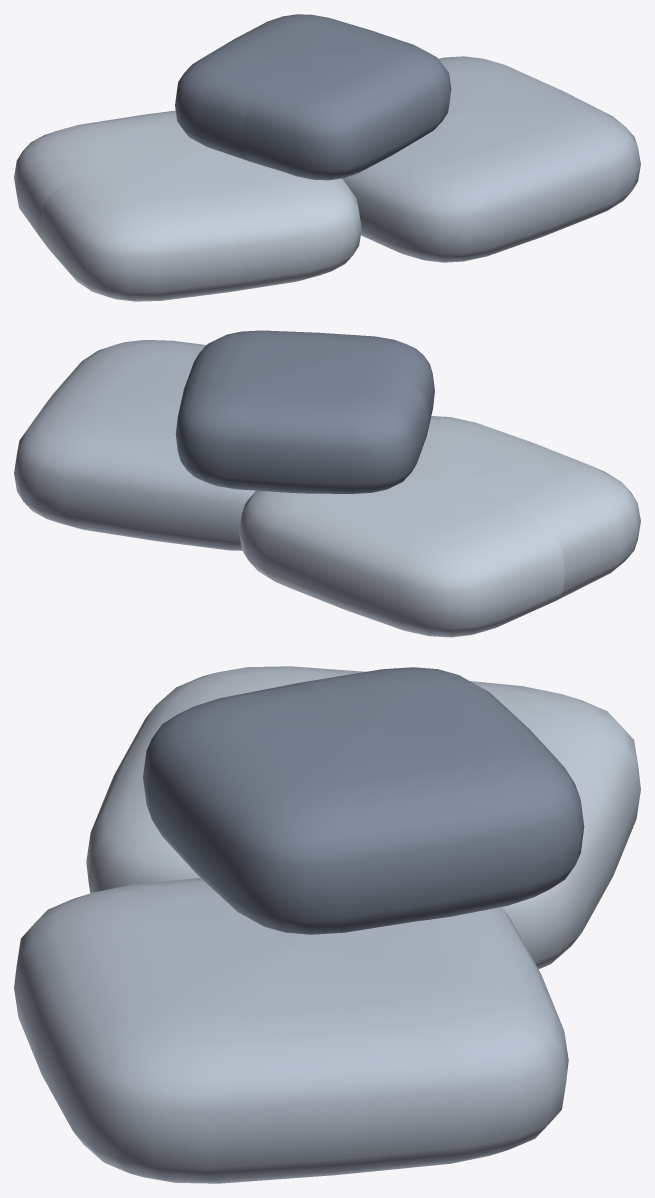
The model's file is pillow-set-lite.glb.
The picture shows the model from 3 angles, top to bottom: view 1: azimuth 30°, elevation 25°; view 2: azimuth 150°, elevation 25°; view 3: azimuth 270°, elevation 25°; orthographic projection. The views are drawn at different scales.
Parts seen in each view (by area): view 1: light, soft, accent; view 2: light, accent, soft; view 3: soft, accent, light.
Part boxes in pixels (x1,y1,x2,y2): light: (14,110,361,301); soft: (342,56,640,262); accent: (175,14,451,180); light: (239,416,640,637); accent: (175,330,434,493); soft: (14,340,255,550); soft: (14,878,568,1183); accent: (143,667,584,934); light: (86,666,640,969).
Size of the model in its own units: 0.8506 by 0.25 by 0.5206.
